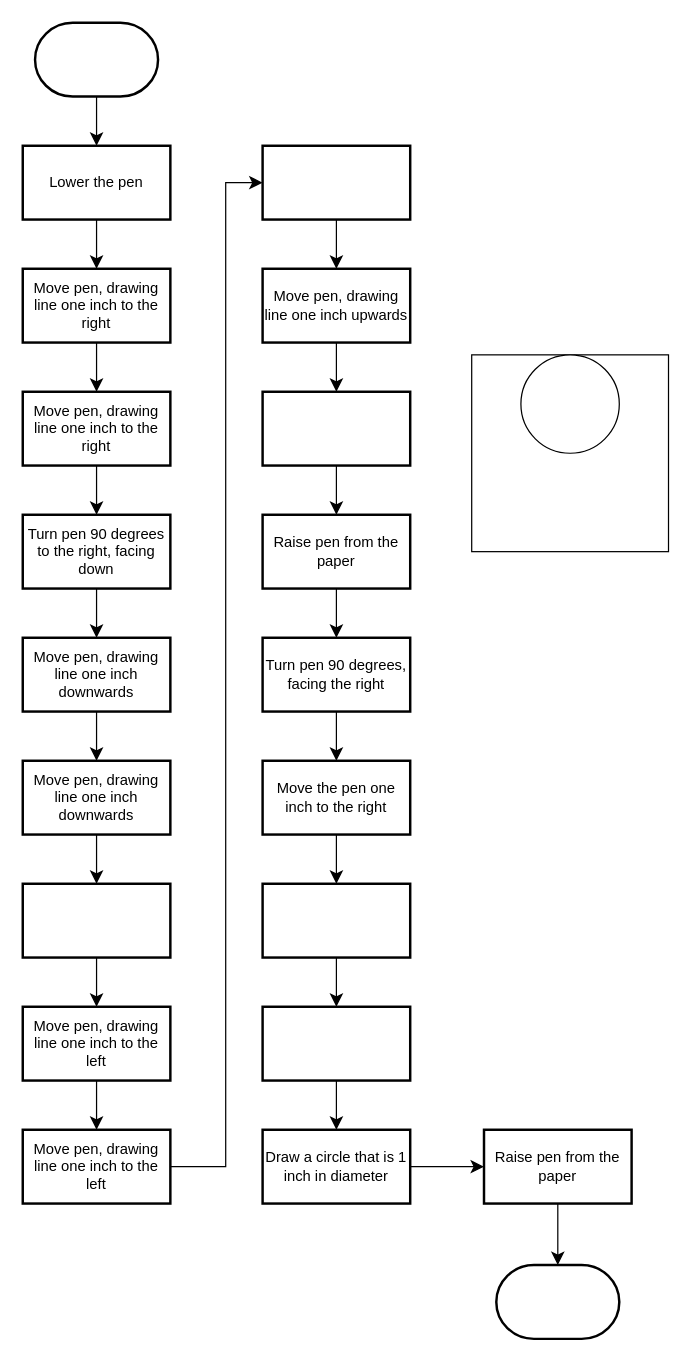
Some shapes in this 690 by 1360 pixel diagram are drawn without their labels. The shapes that lost their labels are listed below. From the top down, each one's centre as x and y in pixels, then its label:
the point at 96,59: Start
the point at 336,182: Turn pen 90 degrees to the right, facing up
the point at 336,428: Move peen, drawing line one inch upwards
the point at 96,920: Turn pen 90 degrees to the right, facing left now
the point at 336,920: Turn pen 90 degrees, facing down
the point at 336,1043: Lower pen to the paper
the point at 557,1301: End
